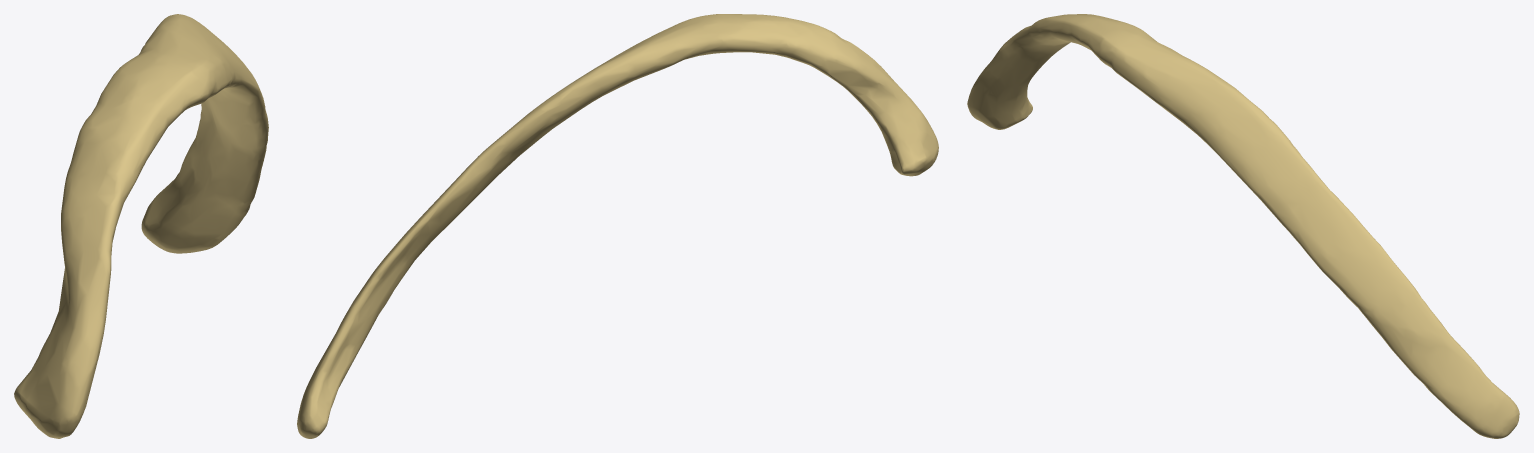
3 views of the same model, side by side, from view 1: azimuth 30°, elevation 25°; view 2: azimuth 150°, elevation 25°; view 3: azimuth 270°, elevation 25° (orthographic). The views are drawn at different scales.
Visible parts, largest first — view 1: 左侧第十一肋; view 2: 左侧第十一肋; view 3: 左侧第十一肋.
Part boxes in pixels (bbox=[...]): 左侧第十一肋: bbox=[14, 14, 268, 438]; 左侧第十一肋: bbox=[297, 14, 938, 438]; 左侧第十一肋: bbox=[967, 14, 1519, 438].
Size of the model in its own units: 0.1471 by 0.1196 by 0.1945.
